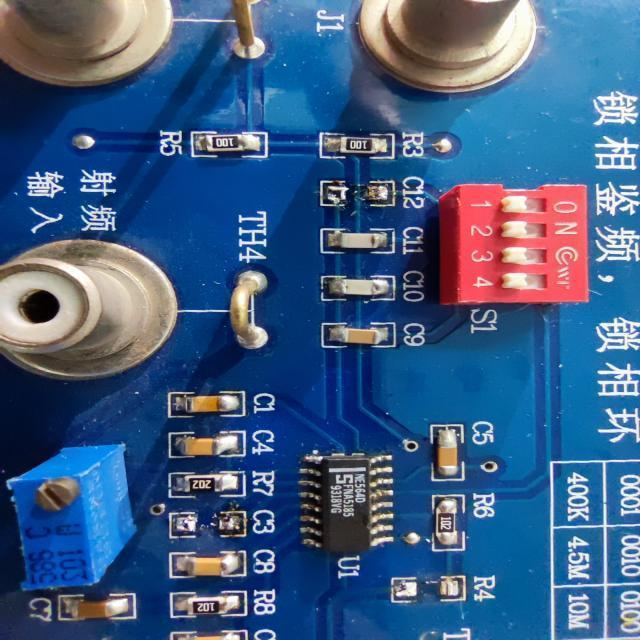Missing component: (311, 170, 431, 216), (386, 572, 509, 610), (160, 505, 281, 542)
